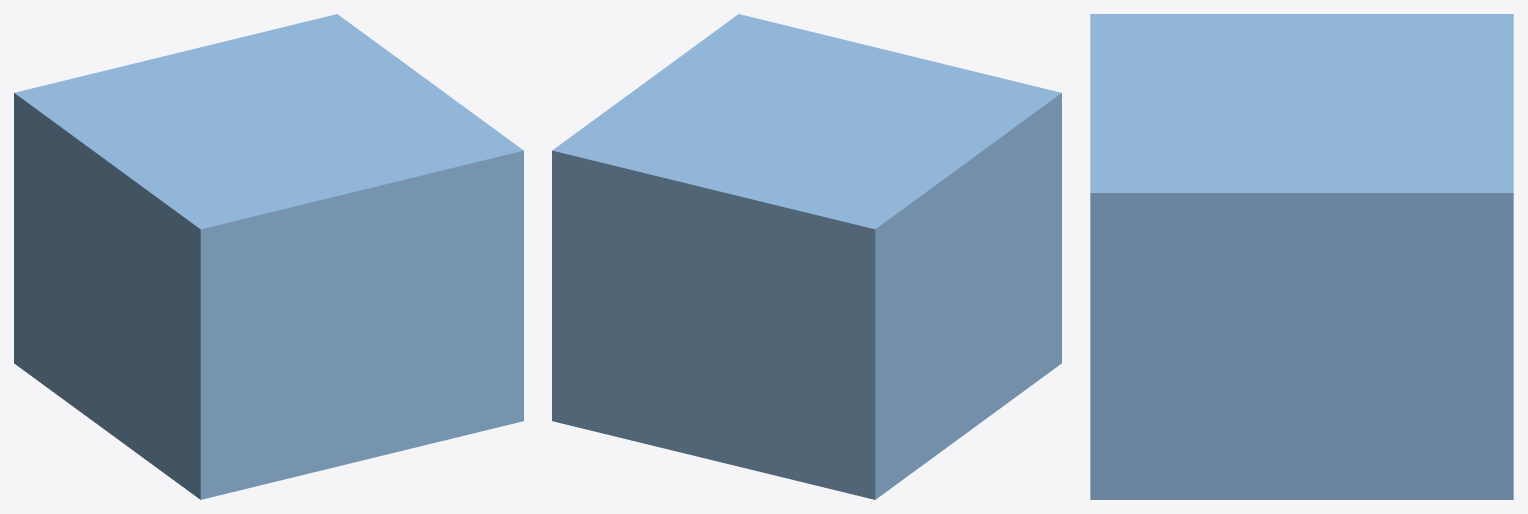
Rendered from simple.glb.
3 views of the same model, side by side, from view 1: azimuth 30°, elevation 25°; view 2: azimuth 150°, elevation 25°; view 3: azimuth 270°, elevation 25° (orthographic). The views are drawn at different scales.
Visible parts, largest first — view 1: prismCoreOuter; view 2: prismCoreOuter; view 3: prismCoreOuter.
Part boxes in pixels (<box>): prismCoreOuter: <box>14,14,523,499</box>; prismCoreOuter: <box>552,14,1061,499</box>; prismCoreOuter: <box>1090,14,1513,499</box>.
Bounding box in the file's own units: 2.5 × 2 × 2.5.
